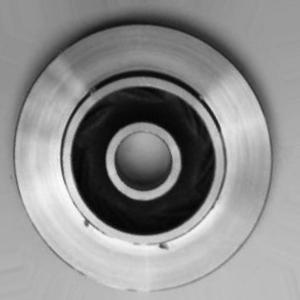defect: (74, 212, 184, 262)
